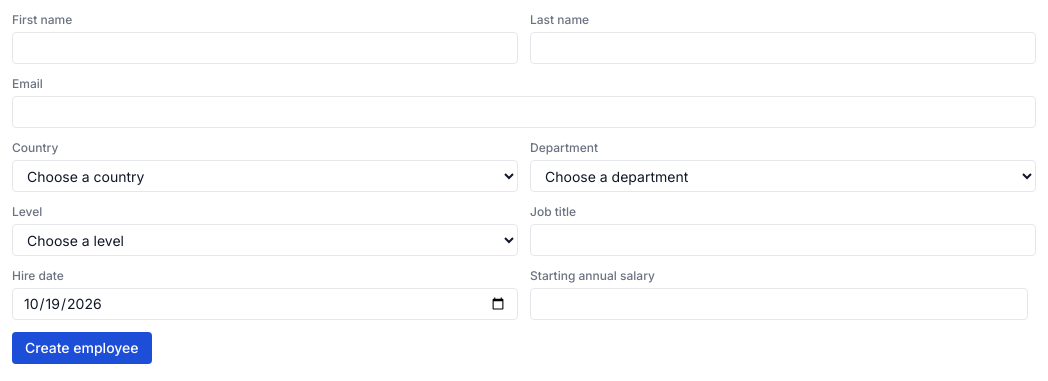
Scenario: EmployeeForm › shows the currency of the chosen country next to the salary
The image size is (1048, 381).
Select "Germany" in the dropdown labelled "Country" at (265, 176), box [12,160,518,192]
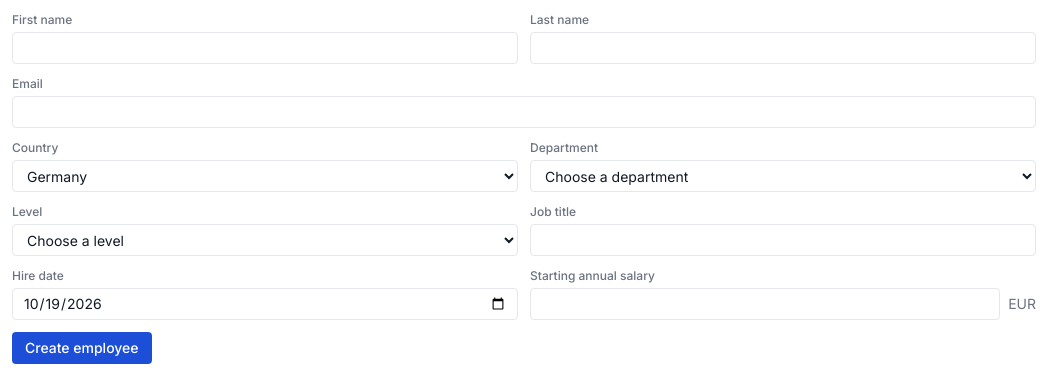
Check: the text "EUR" is shown, box [1008,294,1036,314]
